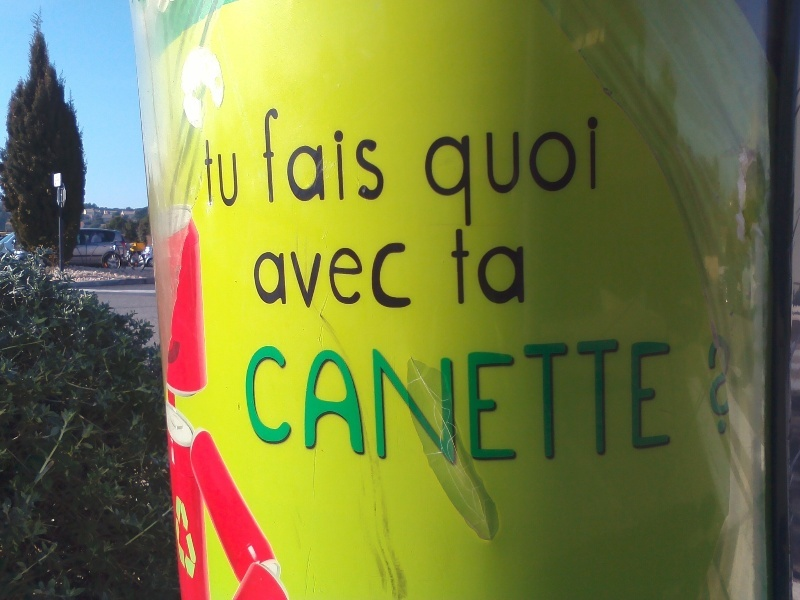text: (241, 337, 256, 468), (257, 337, 272, 468), (273, 337, 288, 468), (289, 337, 304, 468), (305, 337, 320, 468), (321, 337, 336, 468), (337, 337, 352, 468), (353, 337, 368, 468), (369, 337, 384, 468), (385, 337, 400, 468), (401, 337, 416, 468), (417, 337, 432, 468), (433, 337, 448, 468), (449, 337, 464, 468), (465, 337, 480, 468), (481, 337, 496, 468), (497, 337, 512, 468), (513, 337, 528, 468), (529, 337, 544, 468), (545, 337, 560, 468), (561, 337, 576, 468), (577, 337, 592, 468), (593, 337, 608, 468), (609, 337, 624, 468), (625, 337, 640, 468), (641, 337, 656, 468), (657, 337, 672, 468), (433, 109, 448, 230), (449, 109, 464, 230), (465, 109, 480, 230), (481, 109, 496, 230), (497, 109, 512, 230), (513, 109, 528, 230), (529, 109, 544, 230), (545, 109, 560, 230), (561, 109, 576, 230), (577, 109, 592, 230), (273, 103, 288, 204), (289, 103, 304, 204), (305, 103, 320, 204), (321, 103, 336, 204), (337, 103, 352, 204), (353, 103, 368, 204), (369, 103, 384, 204), (721, 333, 735, 438), (708, 333, 720, 438), (422, 109, 432, 230), (593, 109, 603, 230), (449, 227, 464, 306), (465, 227, 480, 306), (481, 227, 496, 306), (497, 227, 512, 306), (261, 103, 272, 204), (513, 227, 527, 306), (209, 136, 224, 209), (225, 136, 240, 209), (257, 239, 272, 311), (273, 239, 288, 311), (289, 239, 304, 311), (305, 239, 320, 311), (321, 239, 336, 311), (337, 239, 352, 311), (353, 239, 368, 311), (369, 239, 384, 311), (385, 239, 400, 311), (401, 239, 414, 311), (673, 337, 676, 468), (203, 136, 208, 209), (252, 239, 256, 311), (385, 103, 386, 204)
